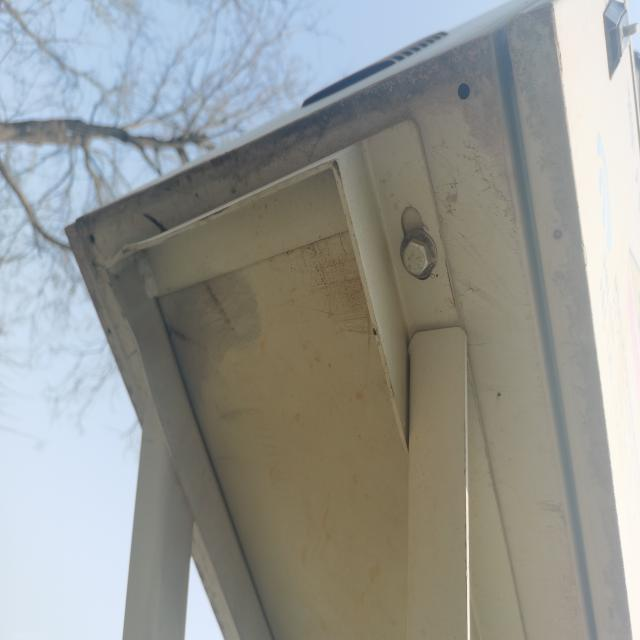bolt head: (399, 237, 432, 277)
